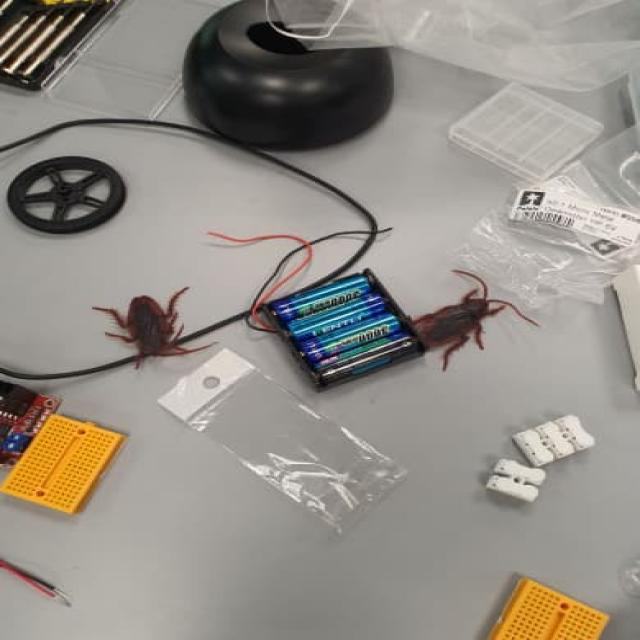Cockroach: (412, 270, 518, 360), (94, 288, 210, 361)
